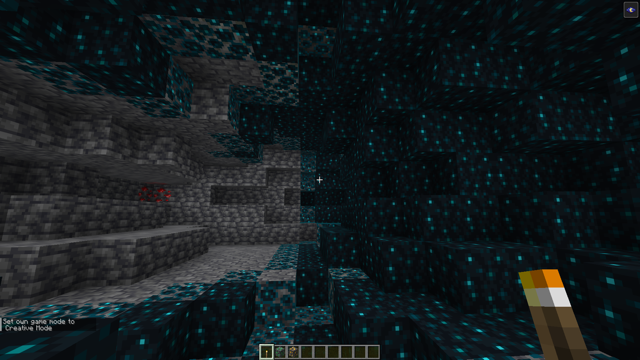redstone: (138, 179, 173, 204)
